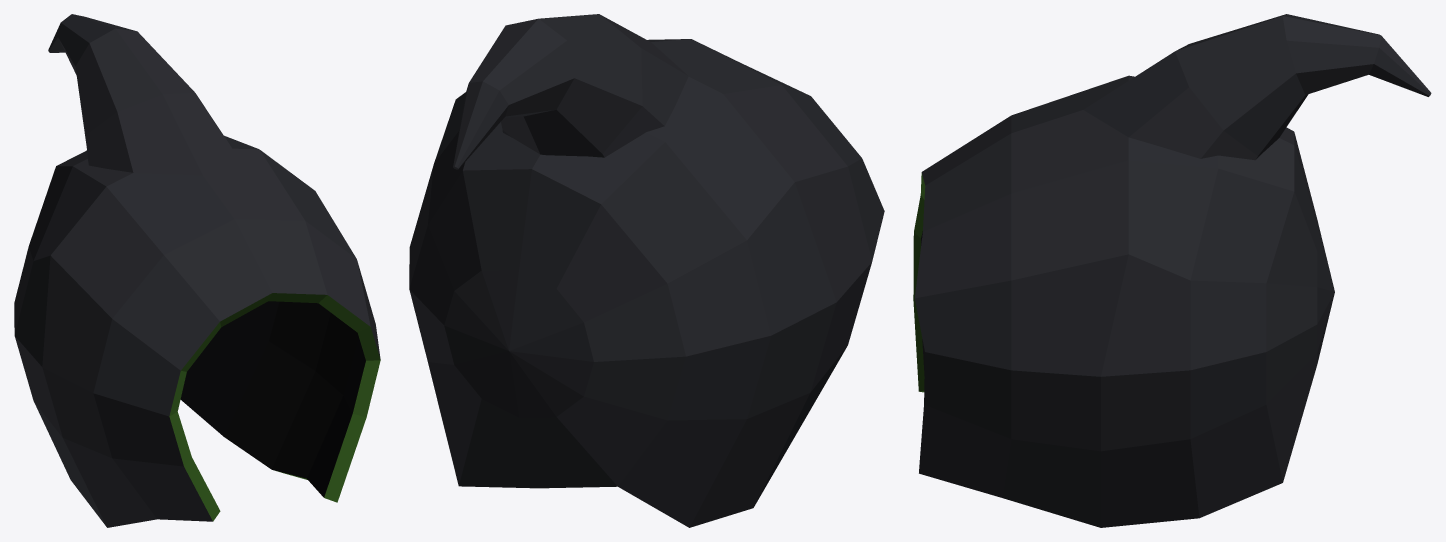
Rendered from Boss_Mage_Hood.fbx.
3 renders of one model, left to right at view 1: azimuth 30°, elevation 25°; view 2: azimuth 150°, elevation 25°; view 3: azimuth 270°, elevation 25°, orthographic. The views are drawn at different scales.
Parts seen in each view (by area): view 1: Boss_Mage_Hood; view 2: Boss_Mage_Hood; view 3: Boss_Mage_Hood.
Boxes of the visible parts, bbox=[...] form: Boss_Mage_Hood: bbox=[14, 14, 380, 527]; Boss_Mage_Hood: bbox=[409, 14, 884, 527]; Boss_Mage_Hood: bbox=[913, 14, 1431, 527].
Size of the model in its own units: 0.72 by 0.9437 by 0.9294.
